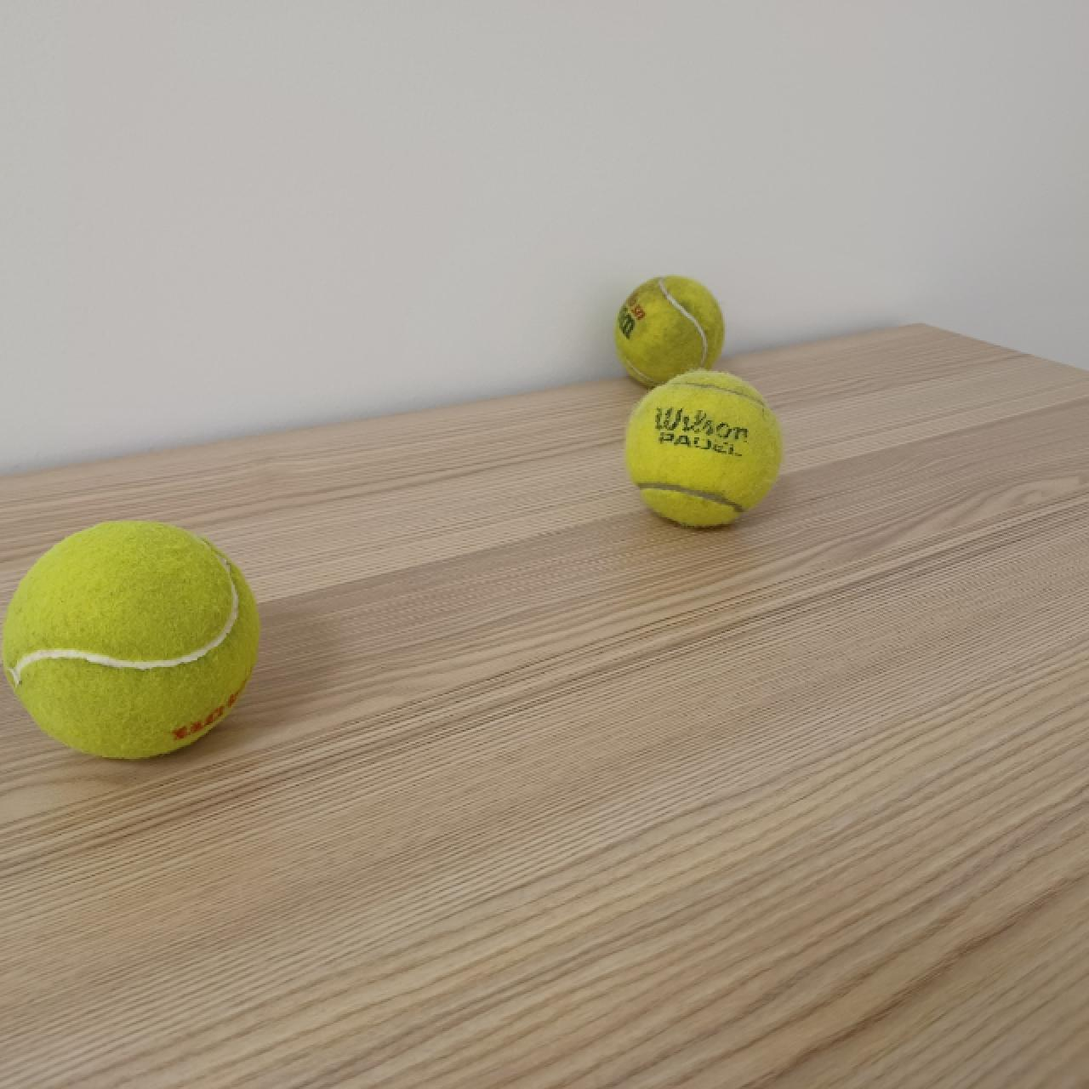tennis-ball: (0, 518, 261, 761), (626, 370, 783, 530), (617, 275, 726, 388)
